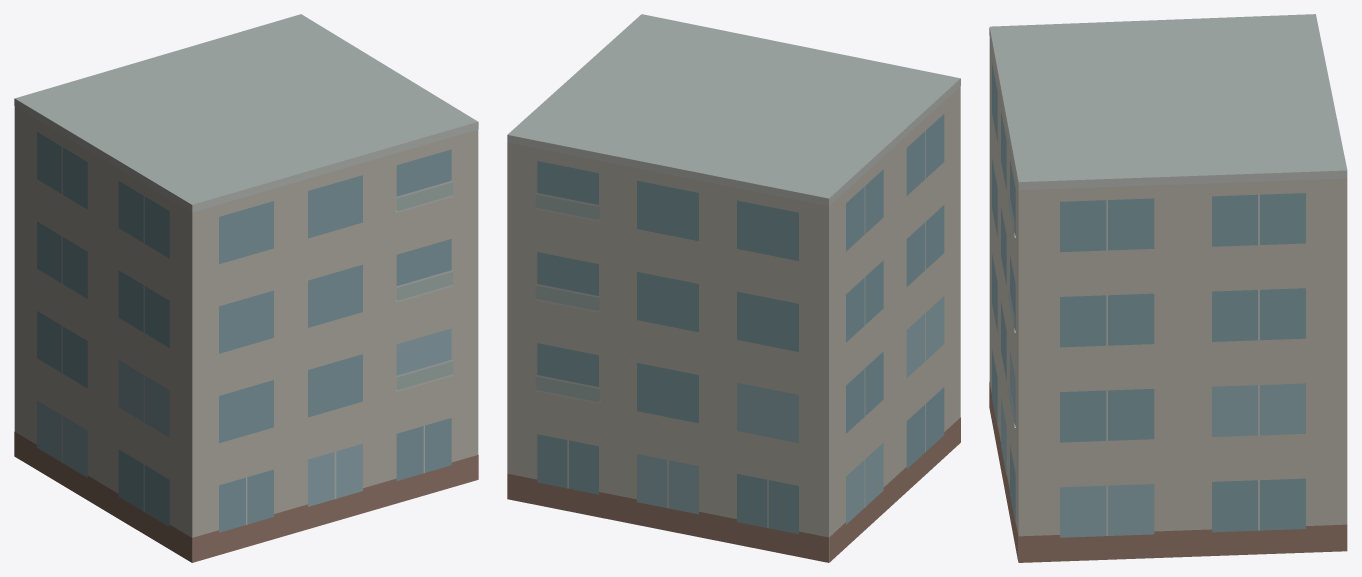
Rendered from survey-upis-32947496.glb.
3 renders of one model, left to right at view 1: azimuth 30°, elevation 25°; view 2: azimuth 150°, elevation 25°; view 3: azimuth 270°, elevation 25°, orthographic. The views are drawn at different scales.
Visible parts, largest first — view 1: survey-upis-32947496.tmp; view 2: survey-upis-32947496.tmp; view 3: survey-upis-32947496.tmp.
Boxes of the visible parts, <box> form: survey-upis-32947496.tmp: <box>14,14,478,562</box>; survey-upis-32947496.tmp: <box>507,14,960,562</box>; survey-upis-32947496.tmp: <box>989,14,1347,562</box>.
Size of the model in its own units: 10.95 by 11.55 by 9.85.
